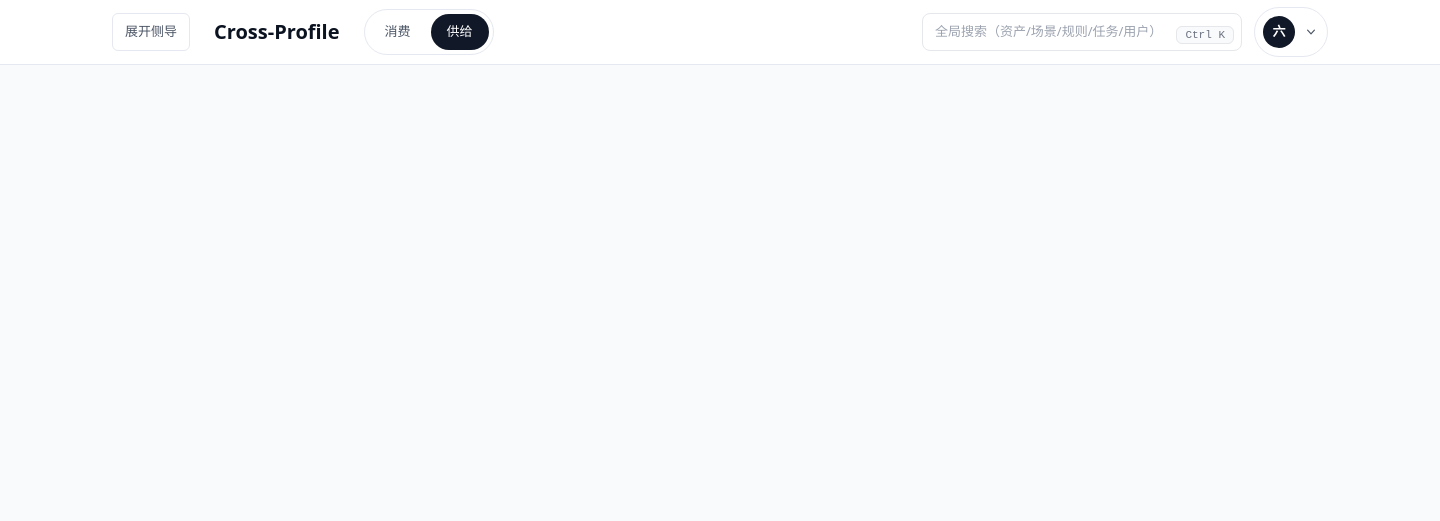
Test: AppHeader › shows user menu groups, fallback switch, and logout in avatar menu
Click the button named "打开头像菜单". click: (1291, 32)
box: 1254,7 -> 1328,57
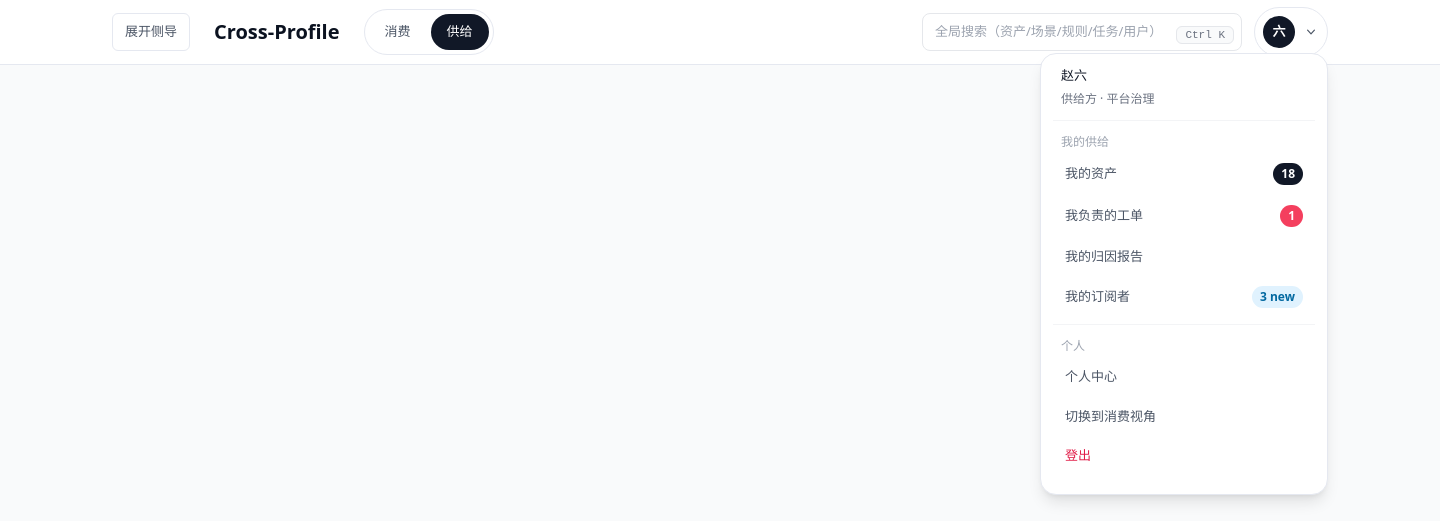
Now the text "我的供给" is shown, box 1061,132 -> 1109,150
Now the text "个人中心" is shown, box 1065,367 -> 1117,386
Now the text "我的资产" is shown, box 1065,164 -> 1117,183
